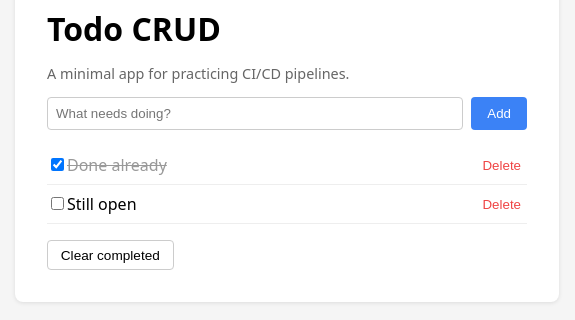
Test case: App › clears completed todos
Click the button "Clear completed". click: [110, 255]
box: [47,240,174,270]
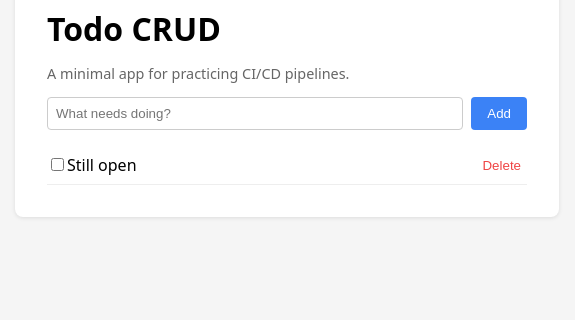
Expected: the text "Still open" is shown, [47,154,136,176]
Expected: the text "Done already" is gone
